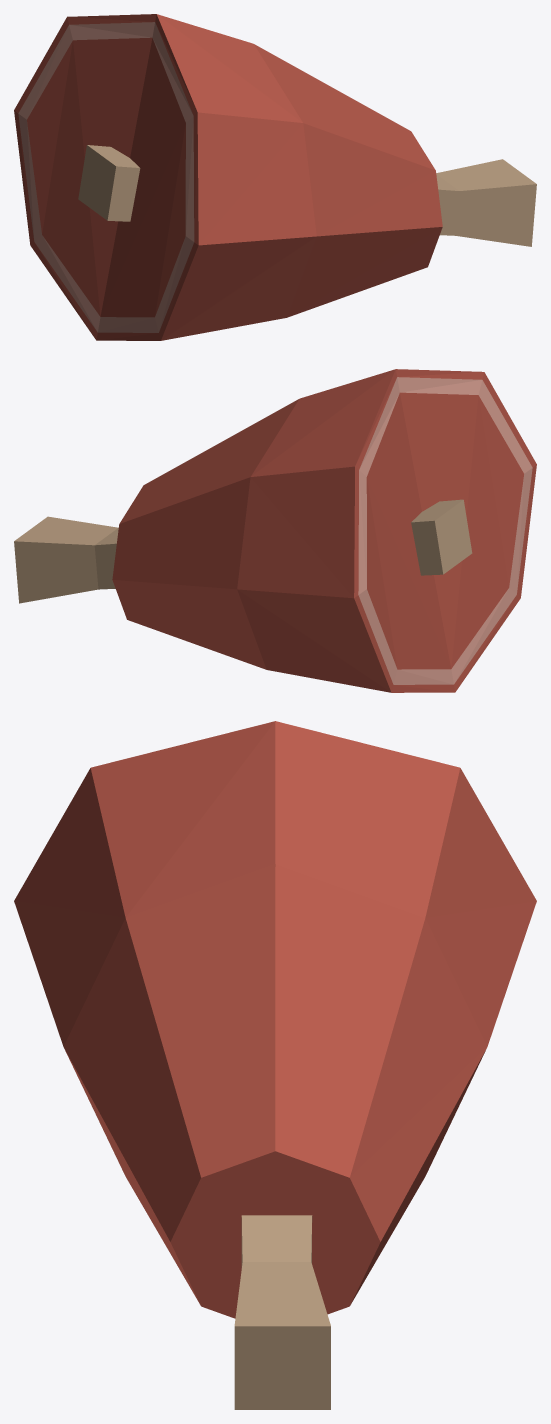
Rendered from ham.fbx.
3 views of the same model, one above another, from view 1: azimuth 30°, elevation 25°; view 2: azimuth 150°, elevation 25°; view 3: azimuth 270°, elevation 25° (orthographic). The views are drawn at different scales.
Visible parts, largest first — view 1: ham; view 2: ham; view 3: ham.
Part boxes in pixels (<box>): ham: <box>14,14,536,340</box>; ham: <box>14,369,536,692</box>; ham: <box>14,721,536,1409</box>.
Bounding box in the file's own units: 27.57 × 19.25 × 20.55.
Materials: 1 (1 with a texture image).
